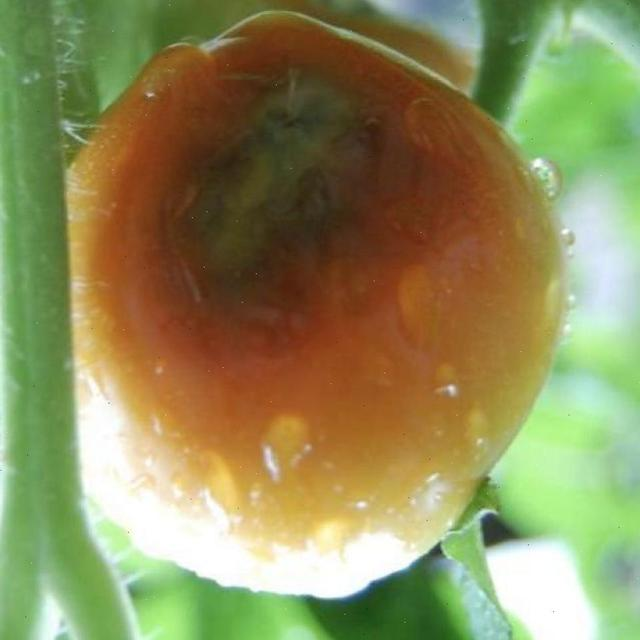Blossom End Rot Fruit: (97, 43, 293, 238)
